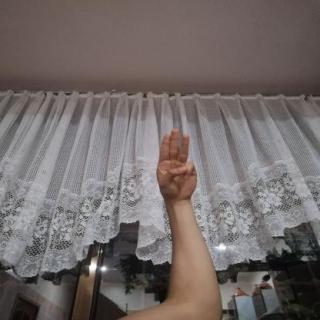THA: (148, 124, 205, 202)
